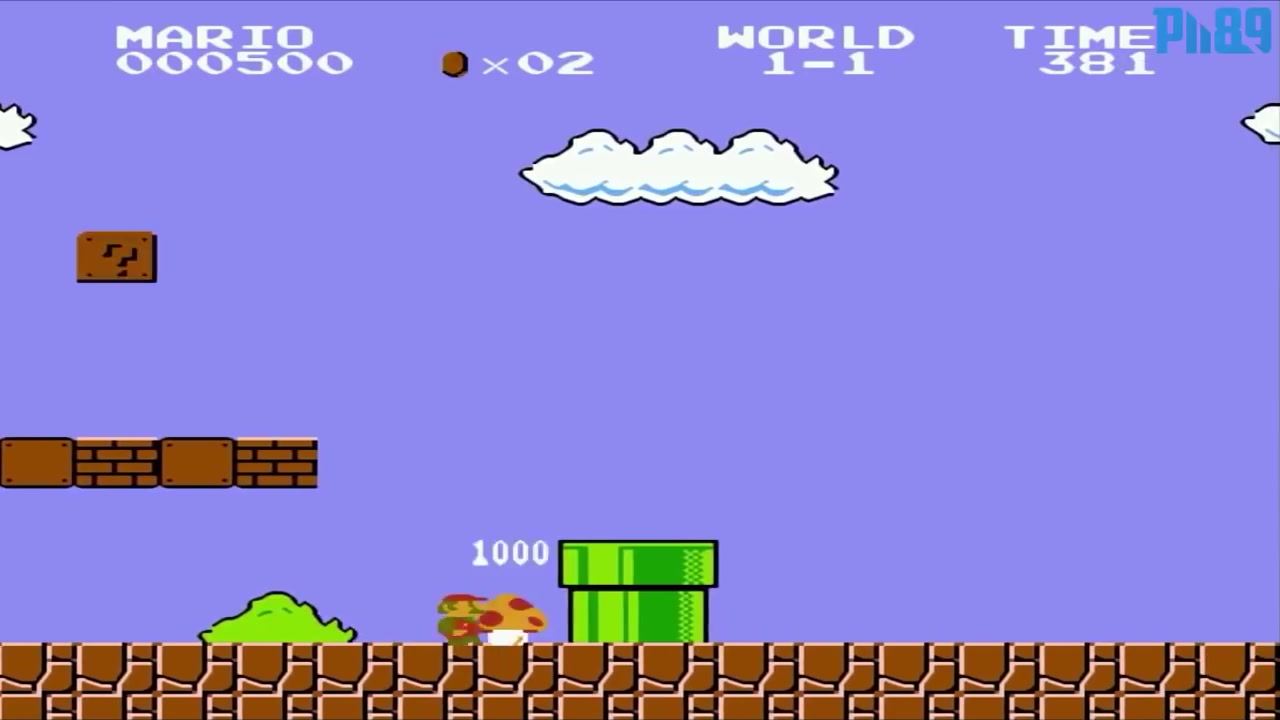mario: (433, 589, 492, 641)
